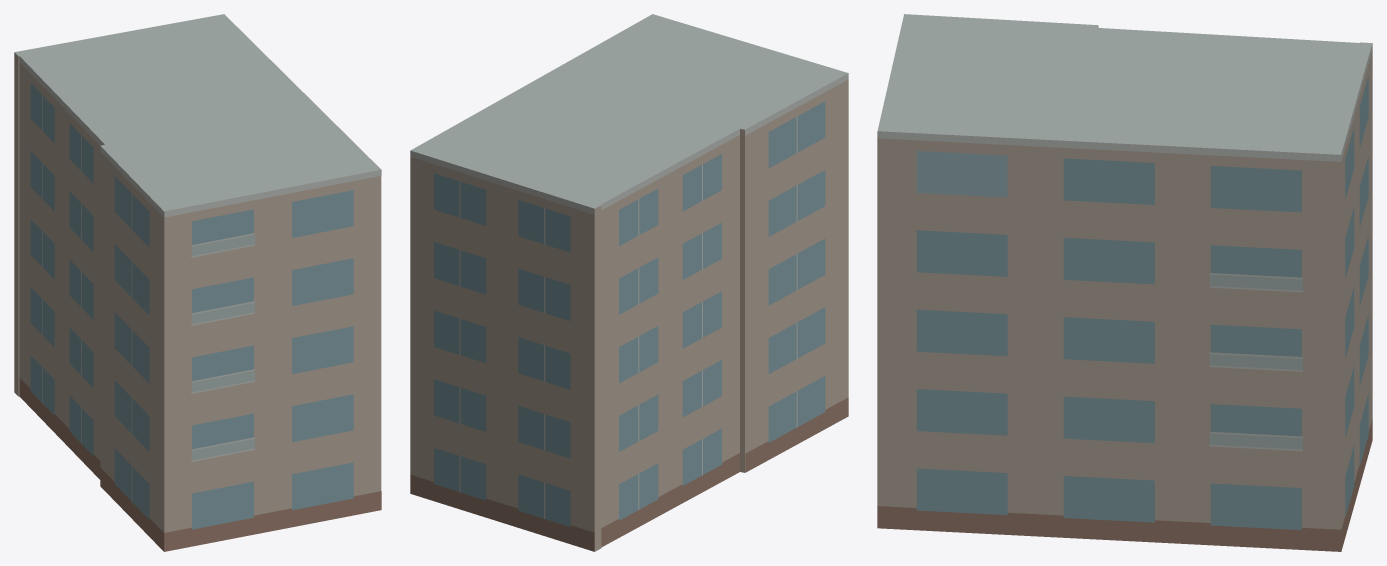
Rendered from survey-upis-32488948.glb.
3 views of the same model, side by side, from view 1: azimuth 30°, elevation 25°; view 2: azimuth 150°, elevation 25°; view 3: azimuth 270°, elevation 25° (orthographic). The views are drawn at different scales.
Parts seen in each view (by area): view 1: survey-upis-32488948.tmp; view 2: survey-upis-32488948.tmp; view 3: survey-upis-32488948.tmp.
Boxes of the visible parts, x1,y1,x2,y2 form: survey-upis-32488948.tmp: (14, 14, 381, 551); survey-upis-32488948.tmp: (410, 14, 848, 551); survey-upis-32488948.tmp: (877, 14, 1372, 551).
Bounding box in the file's own units: 10.36 × 13.6 × 15.38.
